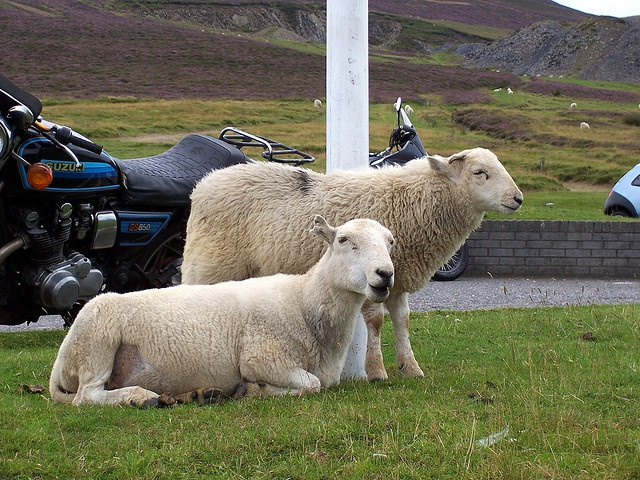non-vehicle: (1, 86, 315, 325), (369, 97, 470, 282)
